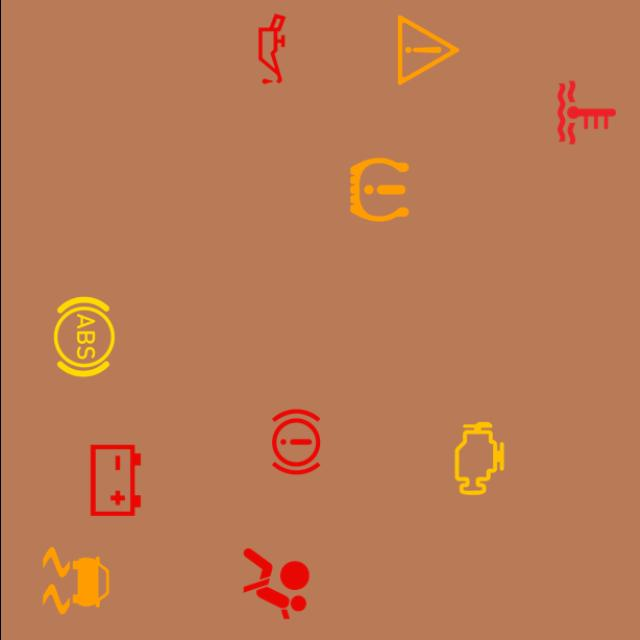Anti Lock Braking System: (39, 292, 128, 380)
Braking System Issue: (251, 398, 339, 486)
Charging System Issue: (70, 436, 158, 524)
Check Engine: (434, 414, 522, 502)
Electronic Stability Problem -ESP-: (31, 536, 119, 624)
Engine Overheating Warning Light: (542, 68, 630, 156)
Low Engine Oil Warning Light: (227, 5, 315, 93)
Low Tire Pressure Warning Light: (334, 146, 422, 234)
Master warning light: (384, 6, 472, 94)
SRS-Airbag: (231, 540, 319, 628)
